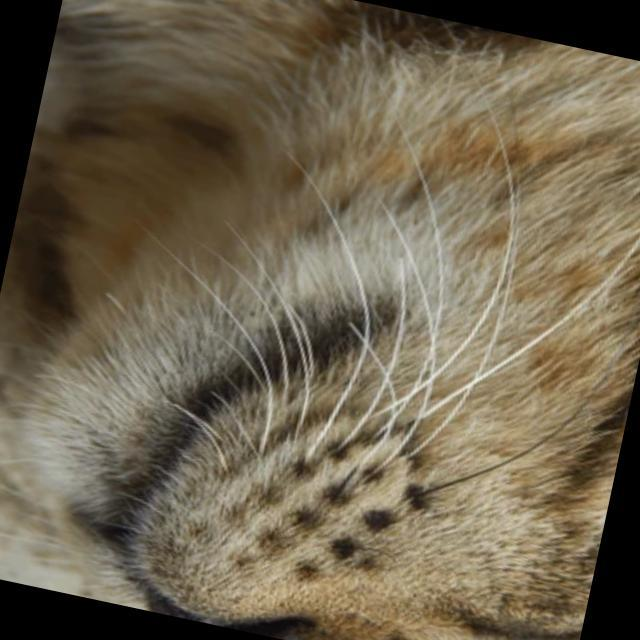Healthy skin: (176, 158, 410, 358), (416, 388, 600, 582), (475, 81, 640, 253)
